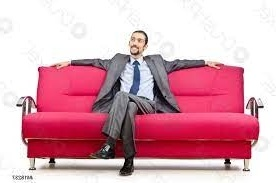not_fallen: (34, 13, 247, 179)
